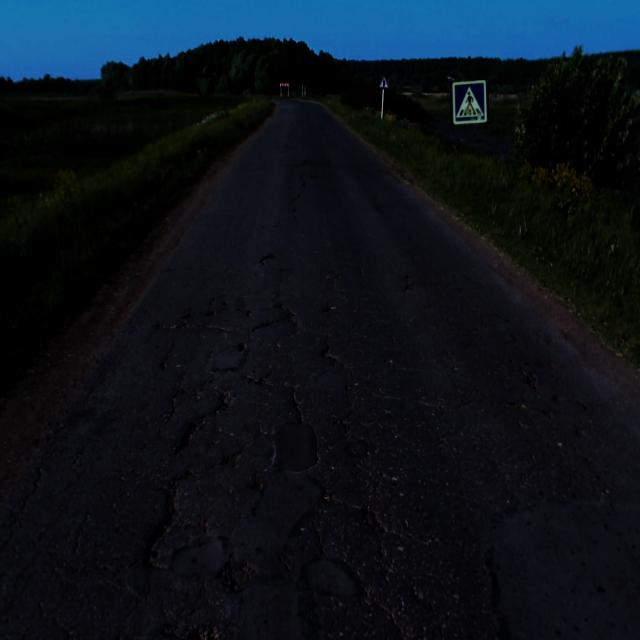road: (0, 99, 639, 639)
